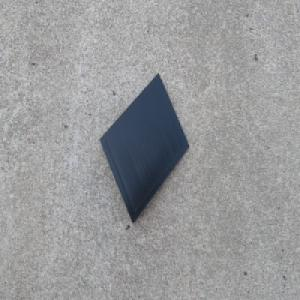PlasticPart: (98, 71, 190, 224)
